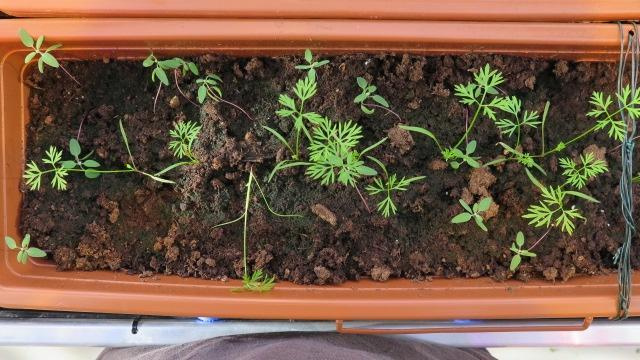weed: (13, 25, 66, 74), (445, 193, 495, 233), (3, 228, 47, 266), (503, 227, 539, 271)
